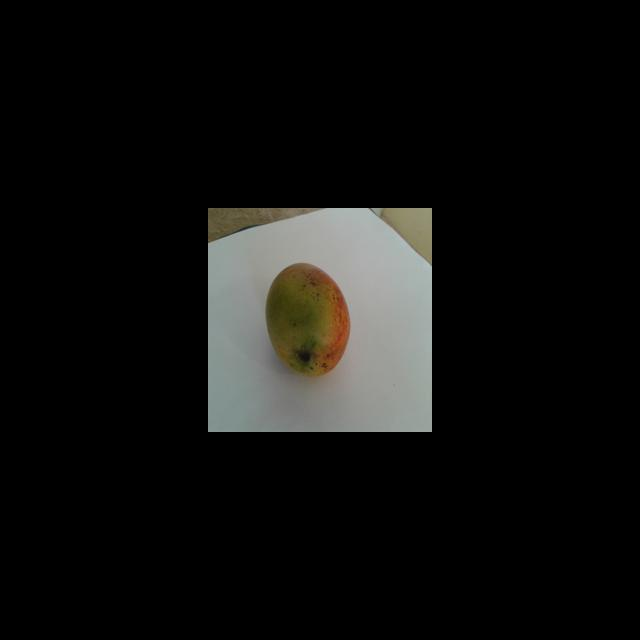Mango: (264, 261, 350, 376)
